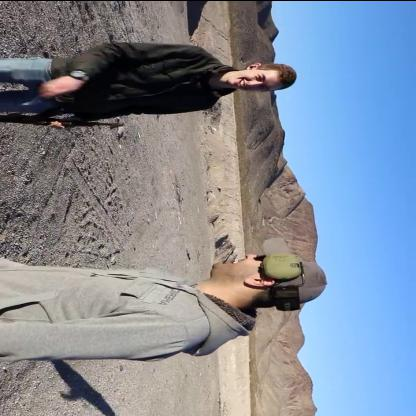long weapon: (0, 103, 122, 135)
